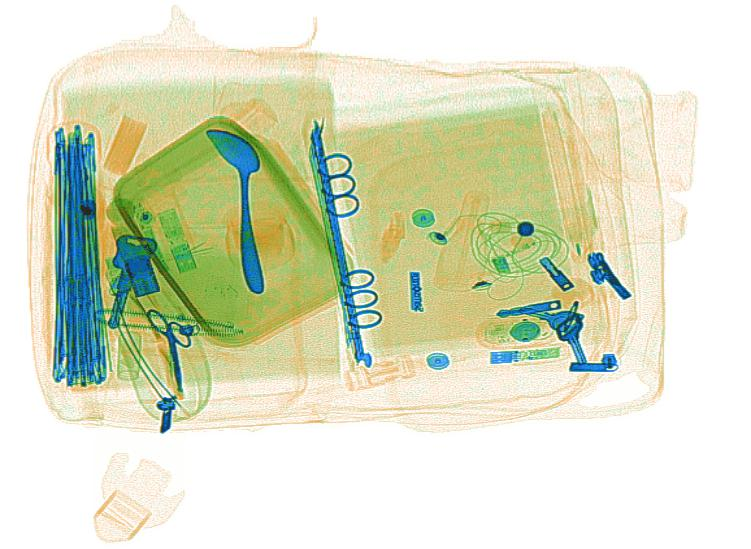USBFlashDisk: (156, 208, 196, 269), (488, 345, 562, 364)
scissors: (144, 306, 197, 395)
